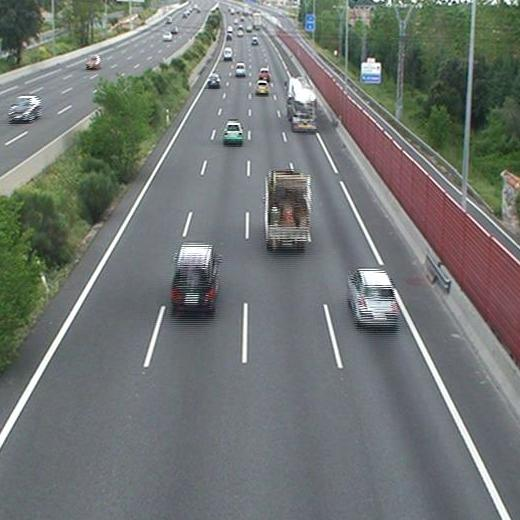car: (347, 270, 397, 325), (224, 123, 242, 144), (256, 82, 269, 95), (258, 69, 270, 82), (235, 63, 246, 77), (208, 74, 219, 87), (251, 36, 258, 44)
small-truck: (265, 174, 309, 247)
tank-truck: (287, 80, 316, 132)
van: (172, 245, 216, 311), (224, 48, 232, 59)
